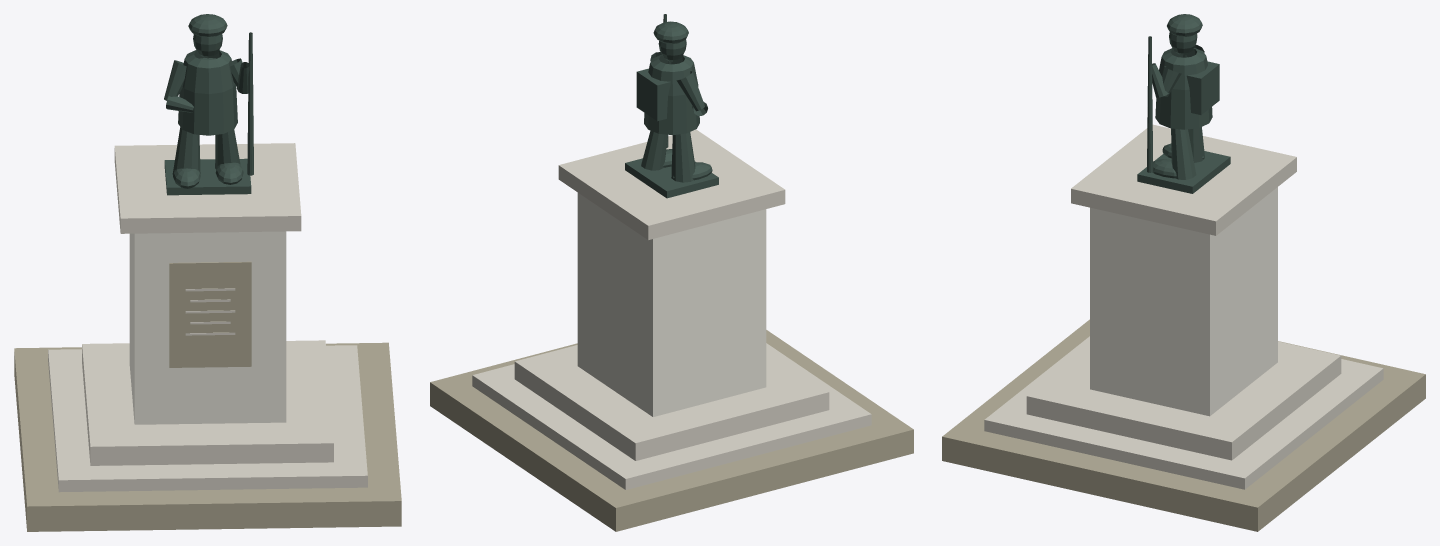
File: republic-memorial.glb
3 renders of one model, left to right at view 1: azimuth 30°, elevation 25°; view 2: azimuth 150°, elevation 25°; view 3: azimuth 270°, elevation 25°, orthographic. The views are drawn at different scales.
Size of the model in its own units: 5.41 by 5.1 by 5.41.
